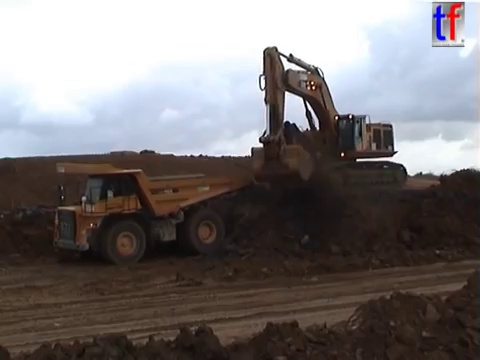excavator: (248, 44, 411, 198)
truck: (44, 160, 252, 265), (107, 145, 174, 164)
